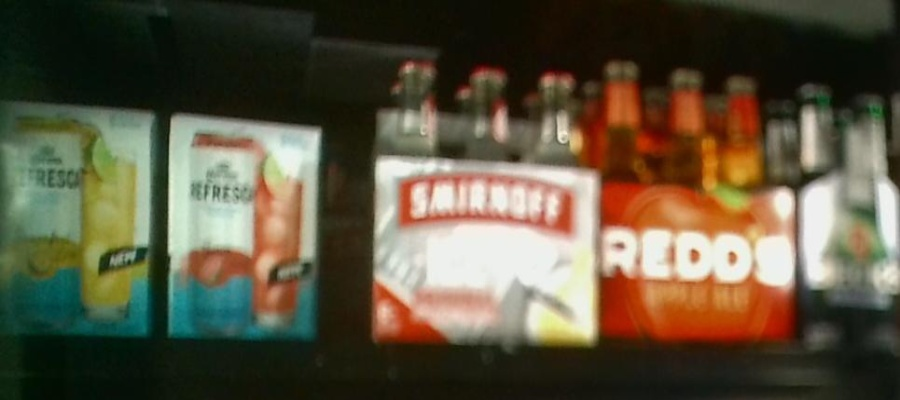bottle: (371, 57, 597, 344), (598, 57, 798, 344), (1, 103, 159, 337), (168, 115, 324, 337), (804, 84, 893, 352)
